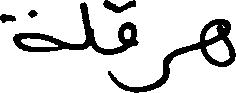X: (0, 5, 61, 56), (200, 14, 235, 71), (118, 0, 136, 92), (145, 49, 168, 92), (80, 0, 93, 54)
